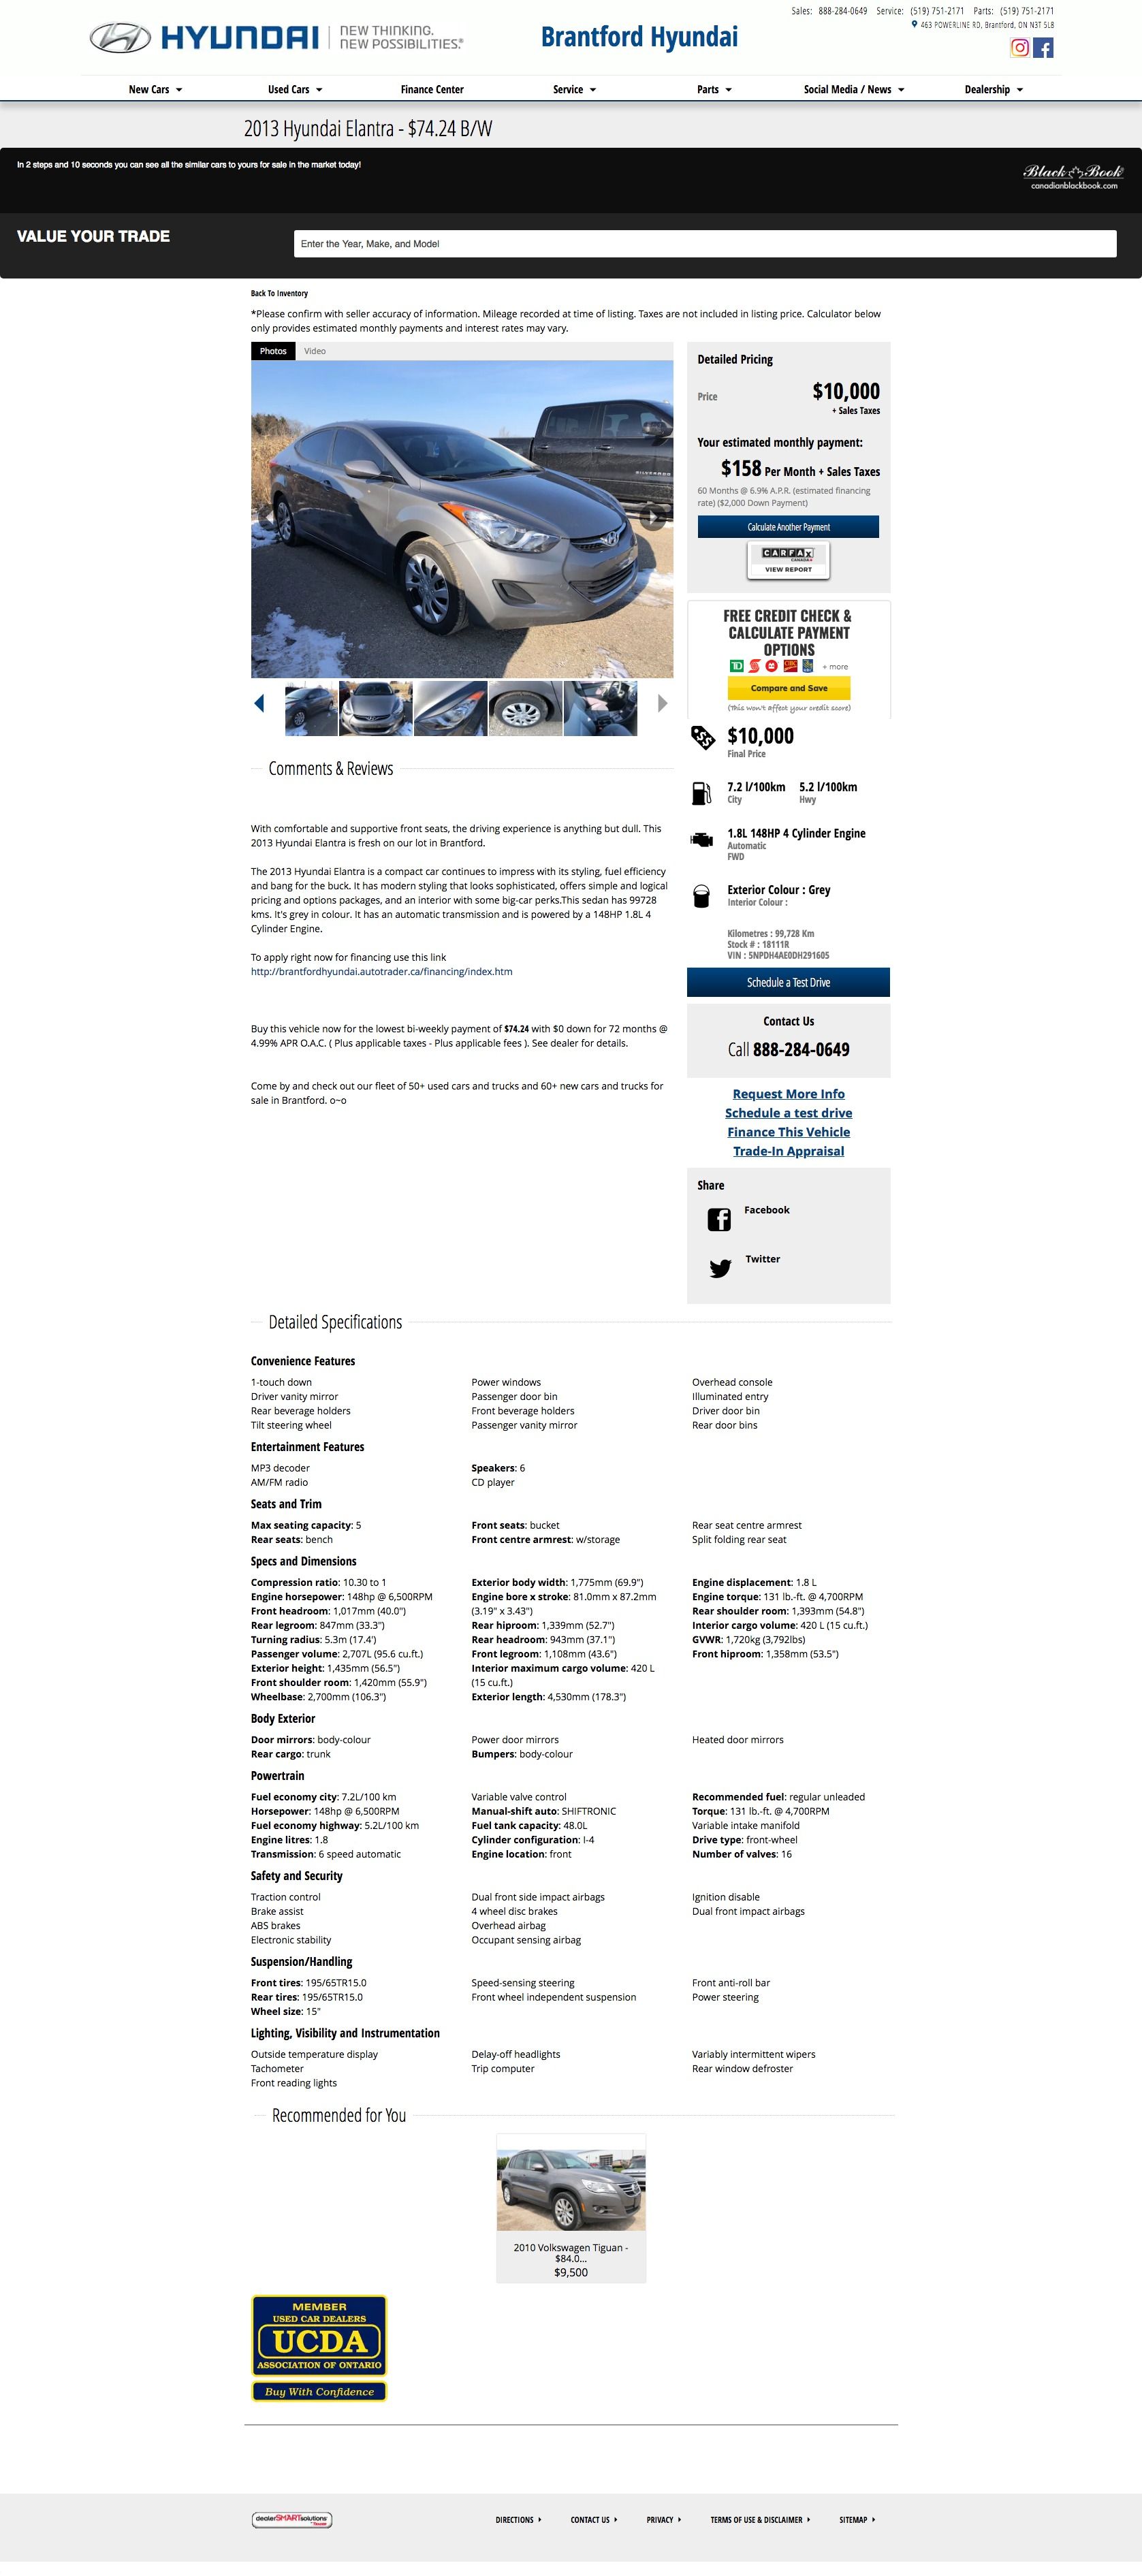car: (657, 695, 669, 715)
